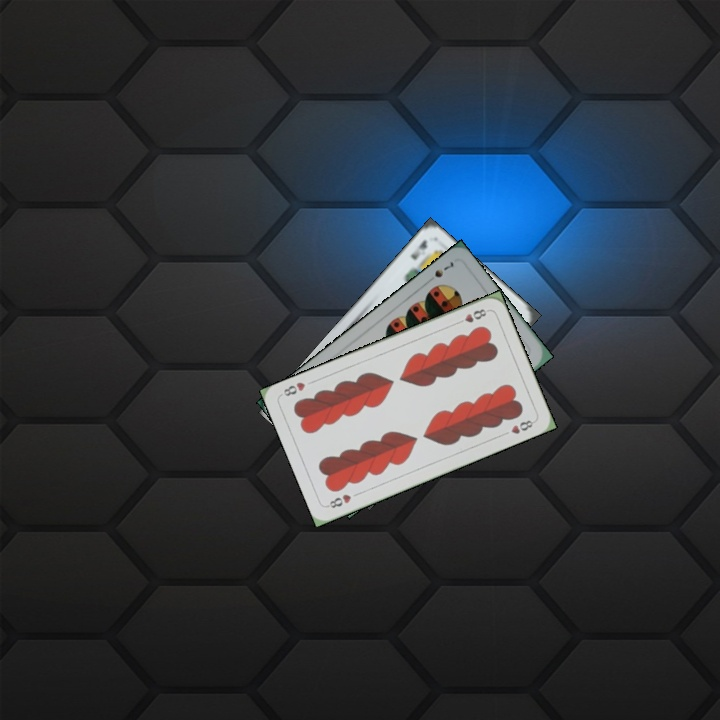EK: (406, 236, 430, 263)
H8: (452, 305, 491, 327), (323, 490, 354, 511)
S7: (422, 257, 456, 286)
